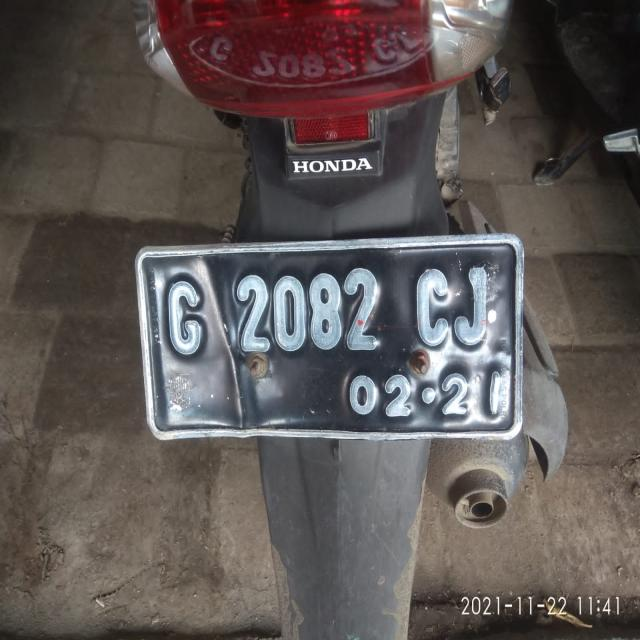plate: (137, 240, 522, 442)
